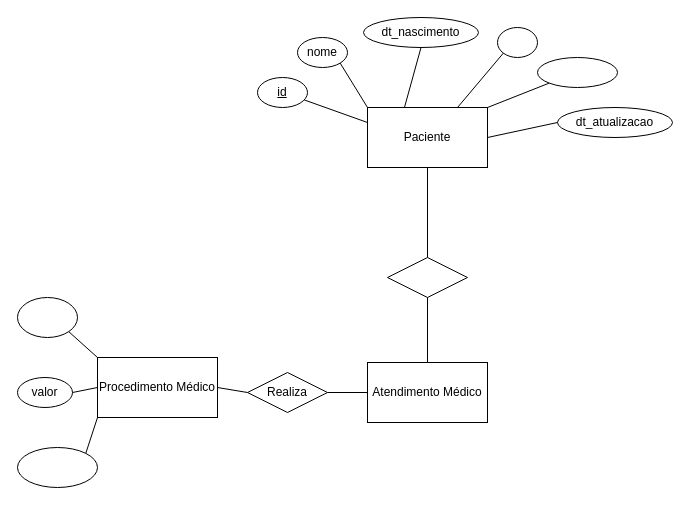
This 690x505 diagram has some shape labels left out. Here are the shapes that lost their labels. From the top down, the centre of each, then its label:
At pixel 517 42: "cpf".
At pixel 577 72: "nome_mae".
At pixel 427 277: "Recebe".
At pixel 47 317: "codigo".
At pixel 57 467: "descricao".
